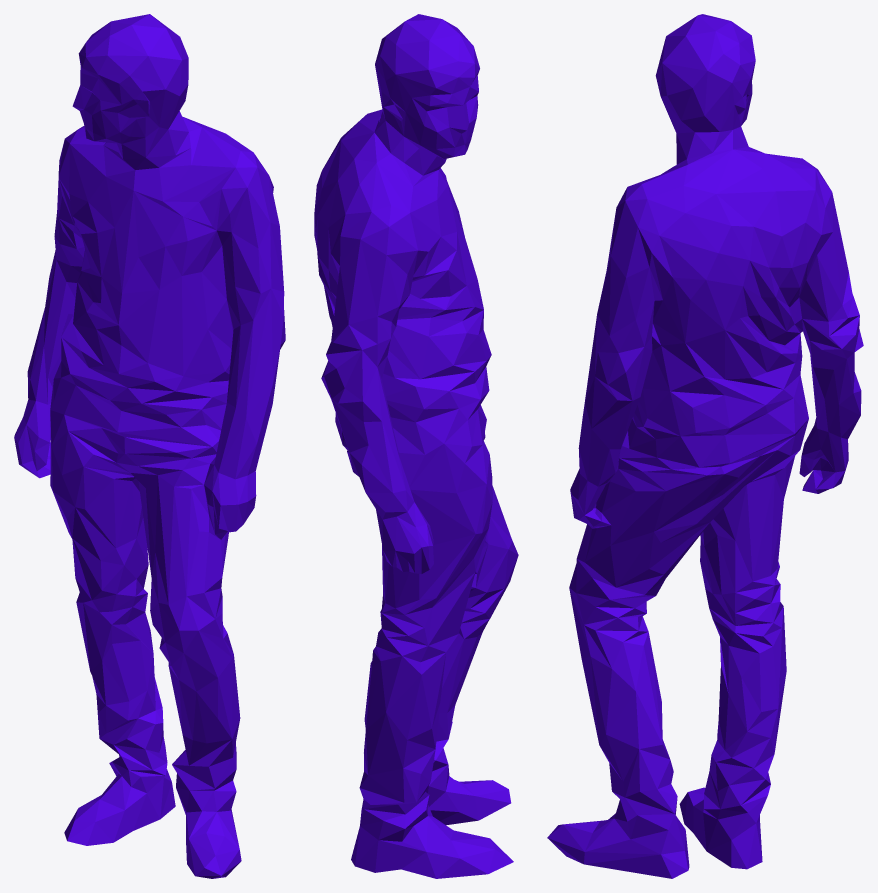
File: per2.fbx
3 renders of one model, left to right at view 1: azimuth 30°, elevation 25°; view 2: azimuth 150°, elevation 25°; view 3: azimuth 270°, elevation 25°, orthographic. The views are drawn at different scales.
Visible parts, largest first — view 1: lowpolyCharacterBorder_156; view 2: lowpolyCharacterBorder_156; view 3: lowpolyCharacterBorder_156.
Part boxes in pixels (x1,y1,x2,y2): lowpolyCharacterBorder_156: (14,14,285,878); lowpolyCharacterBorder_156: (314,14,518,878); lowpolyCharacterBorder_156: (547,14,863,878).
Bounding box in the file's own units: 39.65 × 165 × 57.29.
